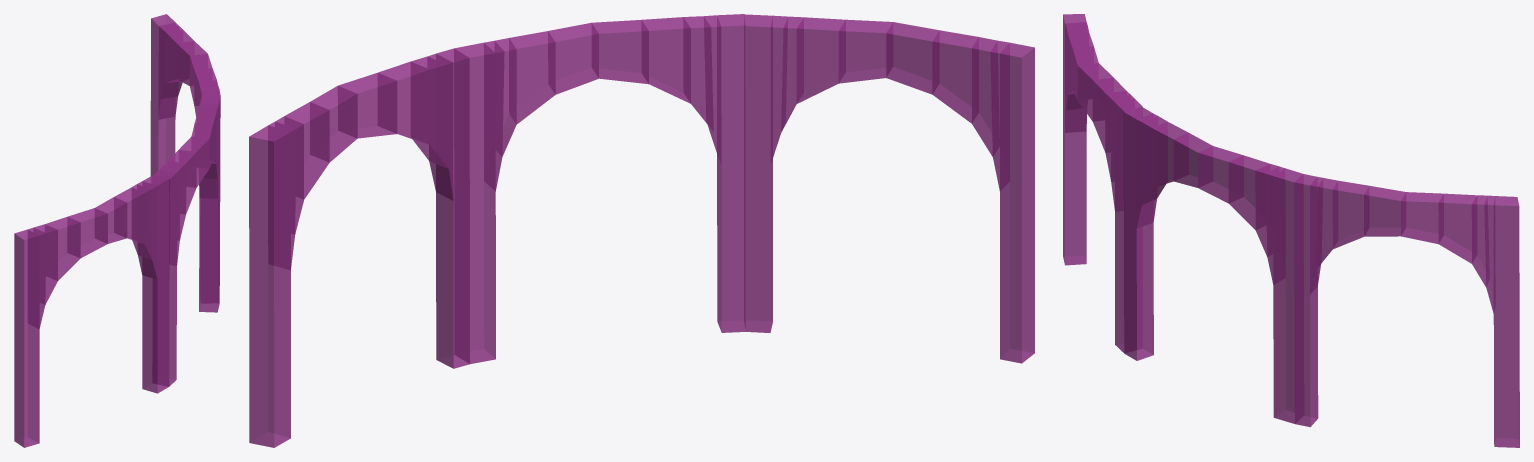
File: SM_Bld_Wall_Curved_Large_Arch_01_Collision.fbx
3 views of the same model, side by side, from view 1: azimuth 30°, elevation 25°; view 2: azimuth 150°, elevation 25°; view 3: azimuth 270°, elevation 25° (orthographic). The views are drawn at different scales.
Visible parts, largest first — view 1: SM_Bld_Wall_Curved_Large_Arch_01_Collision; view 2: SM_Bld_Wall_Curved_Large_Arch_01_Collision; view 3: SM_Bld_Wall_Curved_Large_Arch_01_Collision.
Boxes of the visible parts, <box> form: SM_Bld_Wall_Curved_Large_Arch_01_Collision: <box>14,14,220,447</box>; SM_Bld_Wall_Curved_Large_Arch_01_Collision: <box>249,14,1034,447</box>; SM_Bld_Wall_Curved_Large_Arch_01_Collision: <box>1063,14,1519,447</box>.
Size of the model in its own units: 513 by 301 by 515.
